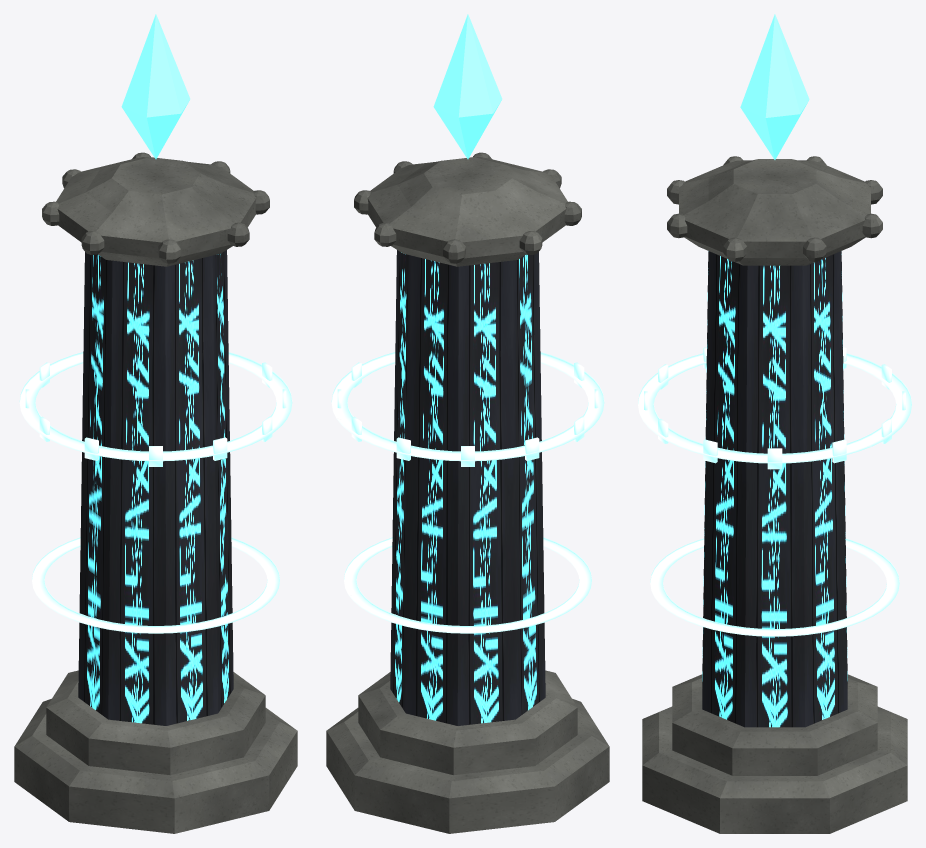
File: rune_pillar.glb
3 renders of one model, left to right at view 1: azimuth 30°, elevation 25°; view 2: azimuth 150°, elevation 25°; view 3: azimuth 270°, elevation 25°, orthographic.
Visible parts, largest first — view 1: PillarShaft, PillarBase, PillarCap, RuneRings, PillarCrystal; view 2: PillarShaft, PillarBase, PillarCap, RuneRings, PillarCrystal; view 3: PillarShaft, PillarBase, PillarCap, RuneRings, PillarCrystal.
Part boxes in pixels (<box>): PillarShaft: <box>78,250,233,725</box>; PillarBase: <box>14,670,297,833</box>; PillarCap: <box>42,152,269,266</box>; RuneRings: <box>19,352,292,633</box>; PillarCrystal: <box>121,14,190,159</box>; PillarShaft: <box>390,250,545,725</box>; PillarBase: <box>326,670,609,833</box>; PillarCap: <box>354,152,581,266</box>; RuneRings: <box>331,352,604,633</box>; PillarCrystal: <box>433,14,502,159</box>; PillarShaft: <box>702,251,847,727</box>; PillarBase: <box>642,674,907,833</box>; PillarCap: <box>667,156,882,265</box>; RuneRings: <box>638,347,911,636</box>; PillarCrystal: <box>740,14,809,159</box>.
Size of what is drawn, in the model's own units: 1.53 by 4.7 by 1.53.
Materials: 4 (2 with a texture image).
